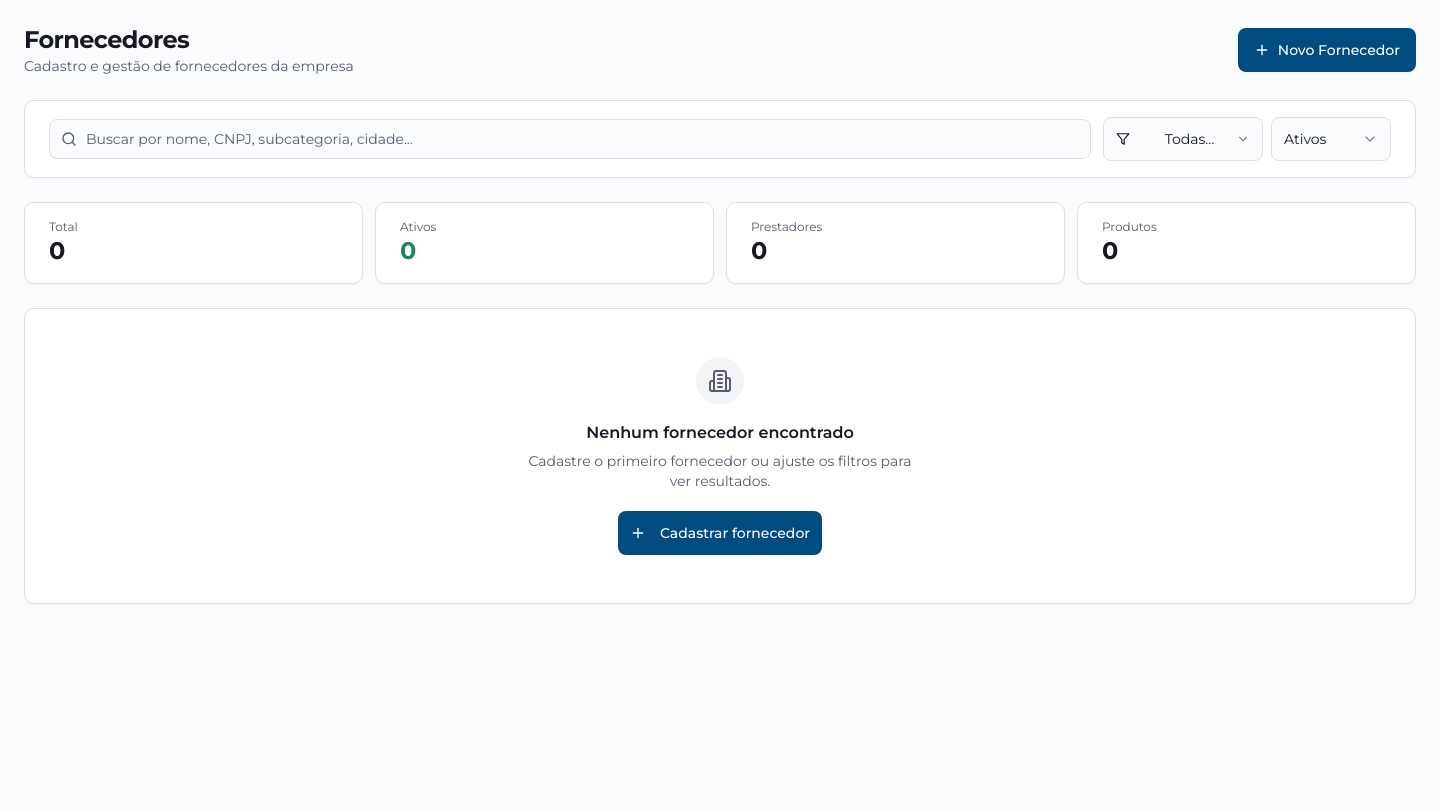
Supplier Modal — Create › shows only Prestadores subcategories when Prestadores is selected
Click the button "Novo Fornecedor".
click(1327, 50)  # box [1238,28,1416,72]
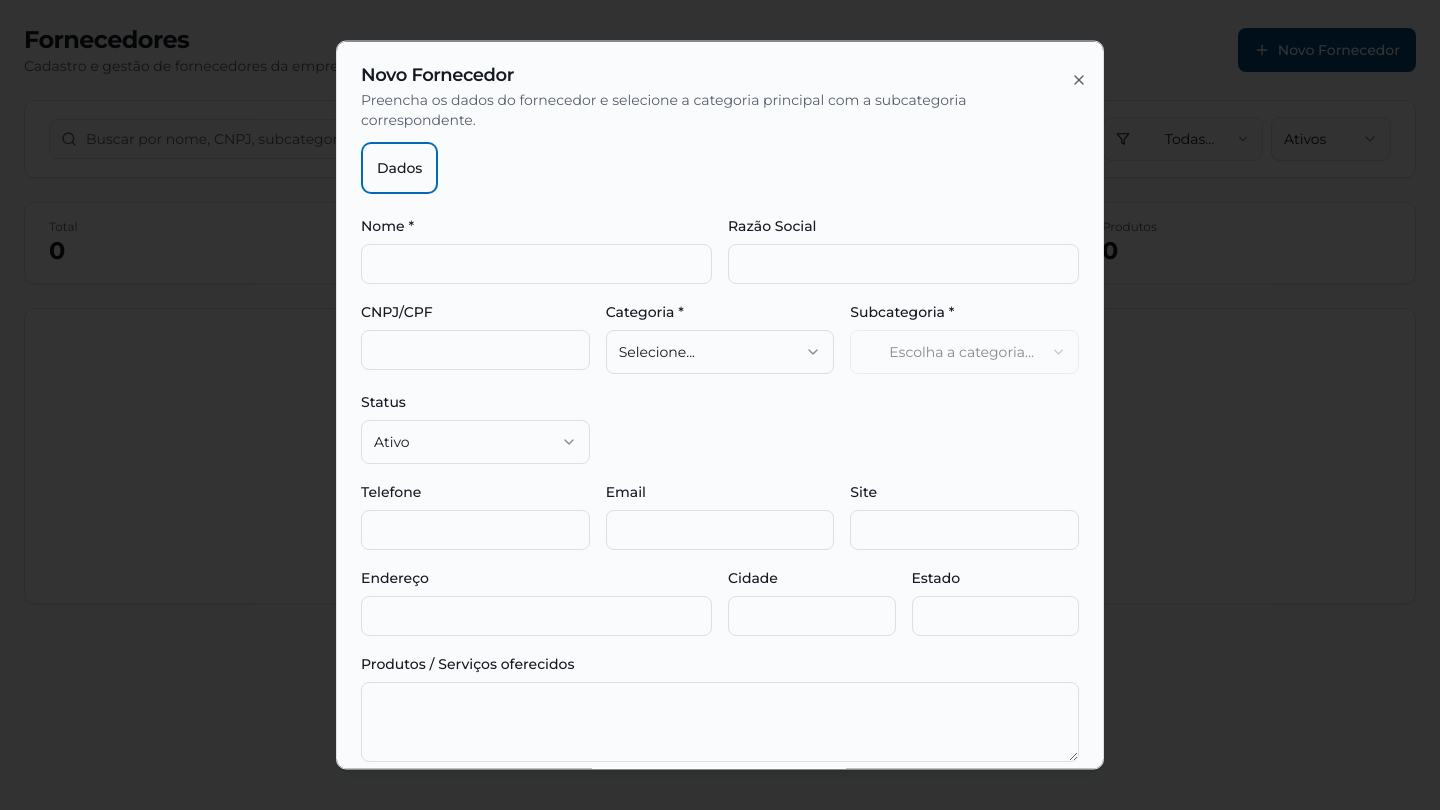
Click the dropdown labelled "Selecione...".
click(720, 352)  # box [606,330,834,374]
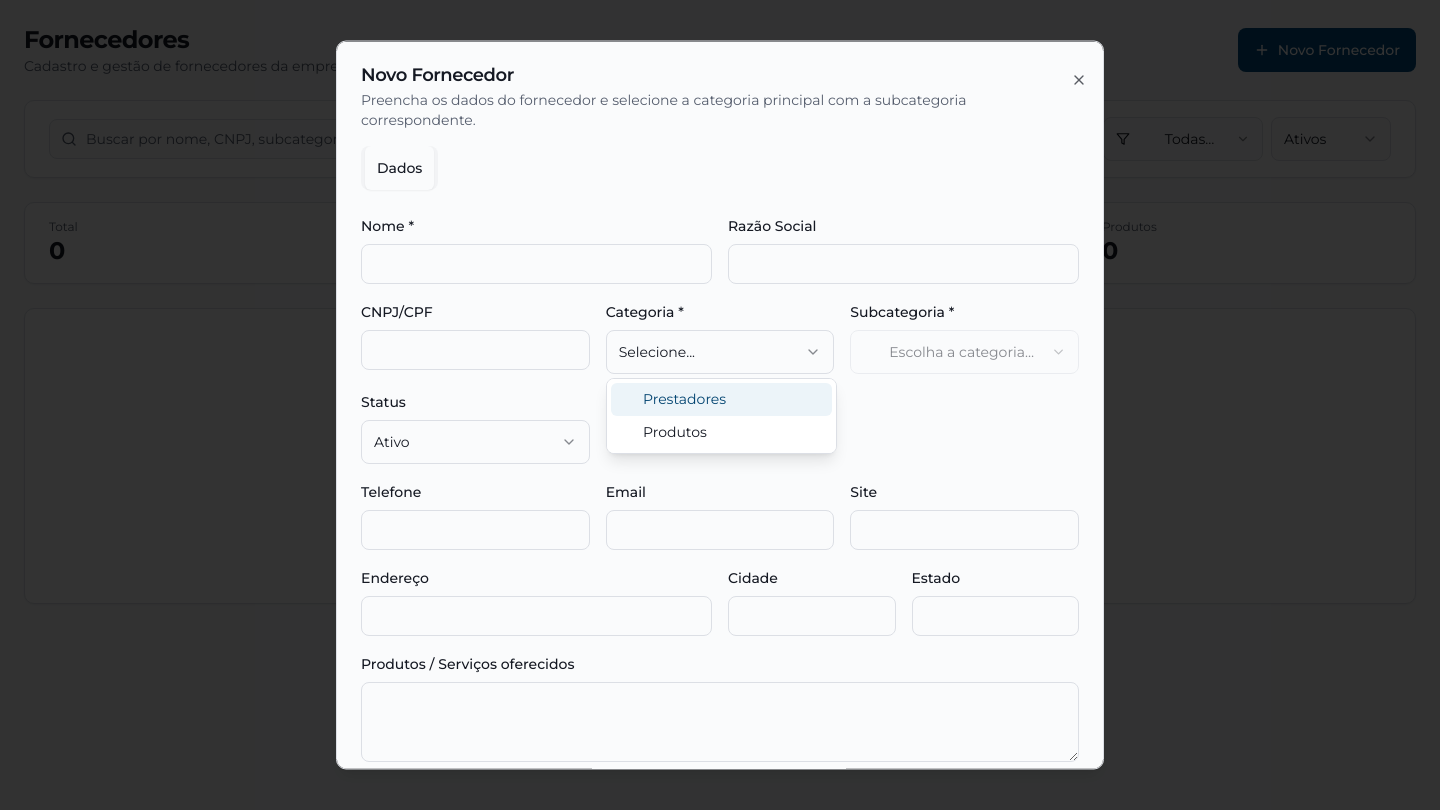
Click the option "Prestadores".
click(721, 400)  # box [611,383,832,416]
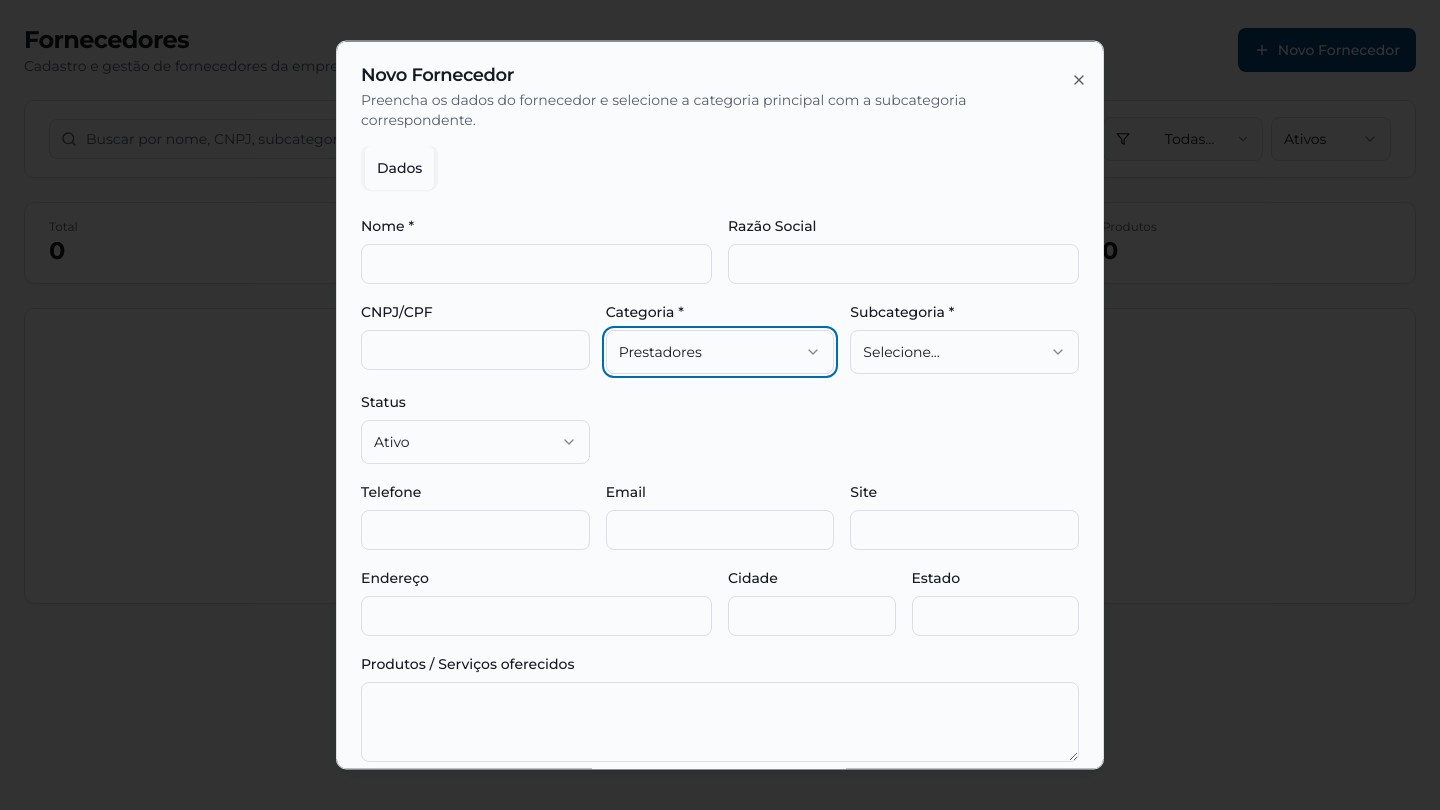
Click the dropdown labelled "Selecione...".
click(965, 352)  # box [850,330,1079,374]
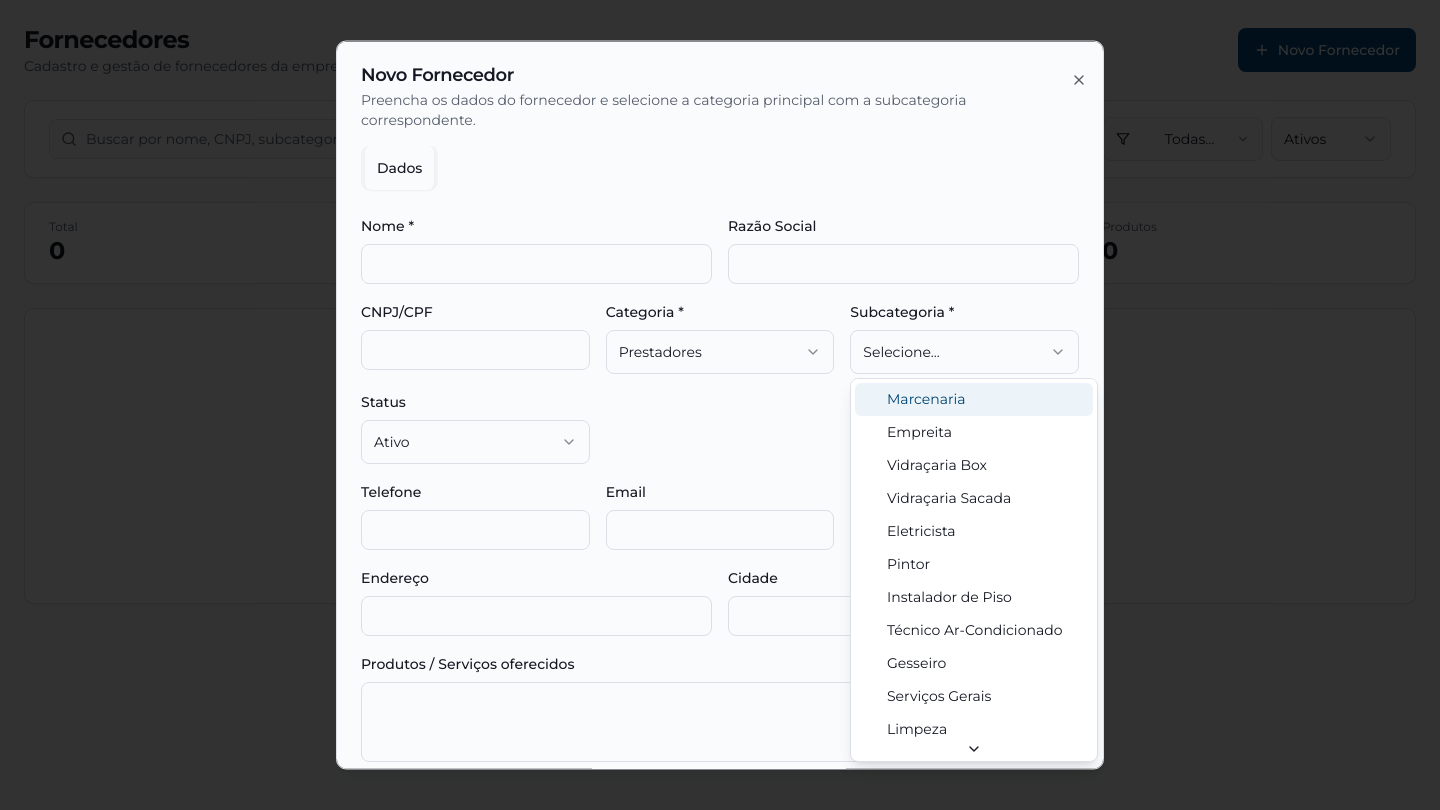
Now the option "Marcenaria" is shown, box [855,383,1093,416]
Now the option "Empreita" is shown, box [887,423,952,441]
Now the option "Vidraçaria Box" is shown, box [887,456,987,474]
